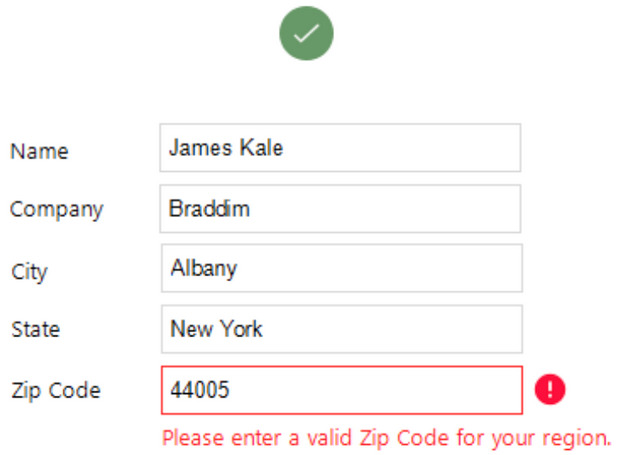_form_: (1, 55, 537, 455)
field: (158, 364, 523, 416), (157, 122, 521, 174), (158, 242, 523, 293), (159, 303, 522, 354), (158, 184, 521, 234)
field_with_label: (10, 120, 523, 176), (11, 362, 524, 418), (10, 301, 525, 356), (11, 240, 525, 295), (11, 182, 523, 236)
